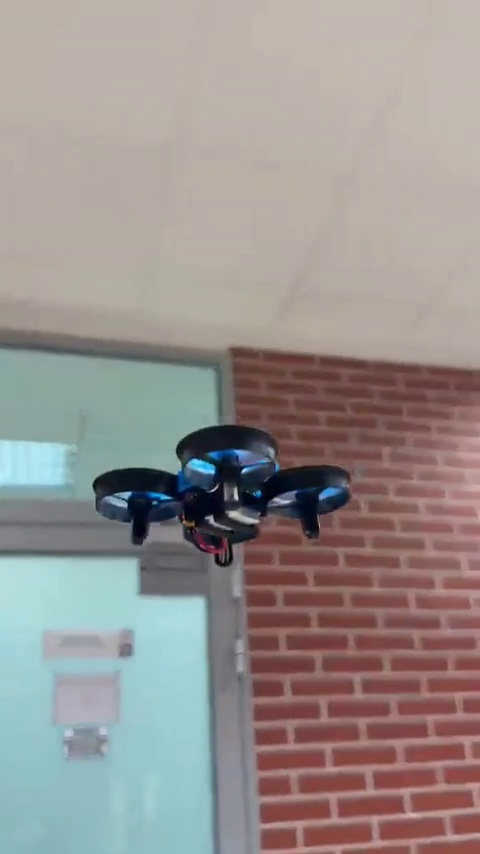drone: (86, 427, 355, 572)
